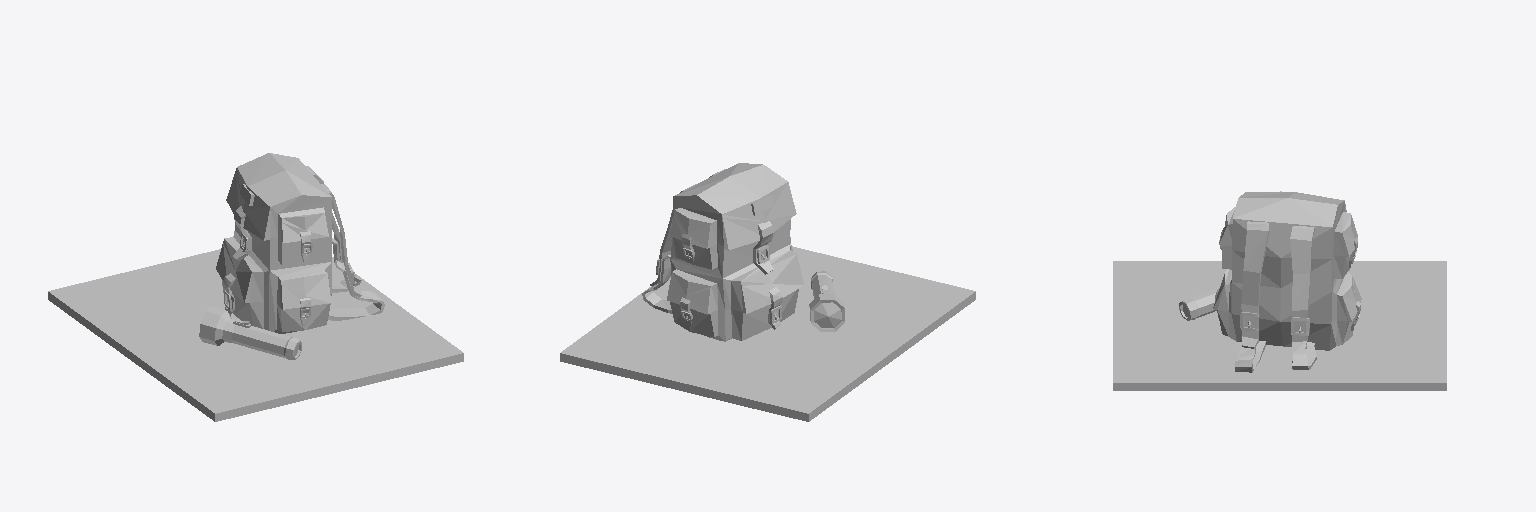
File: BackpackFlashlight.obj
3 renders of one model, left to right at view 1: azimuth 30°, elevation 25°; view 2: azimuth 150°, elevation 25°; view 3: azimuth 270°, elevation 25°, orthographic.
Visible parts, largest first — view 1: group[number redacted], group[number redacted], group[number redacted]; view 2: group[number redacted], group[number redacted], group[number redacted]; view 3: group[number redacted], group[number redacted], group[number redacted].
Part boxes in pixels (left/top/right/bottom): group[number redacted]: left=48, top=249, right=463, bottom=421; group[number redacted]: left=216, top=153, right=384, bottom=333; group[number redacted]: left=199, top=306, right=301, bottom=359; group[number redacted]: left=560, top=246, right=975, bottom=421; group[number redacted]: left=642, top=163, right=803, bottom=341; group[number redacted]: left=809, top=271, right=844, bottom=331; group[number redacted]: left=1113, top=261, right=1446, bottom=390; group[number redacted]: left=1213, top=191, right=1361, bottom=372; group[number redacted]: left=1179, top=287, right=1219, bottom=320.
Size of the model in its own units: 2.48 by 1.42 by 2.89.